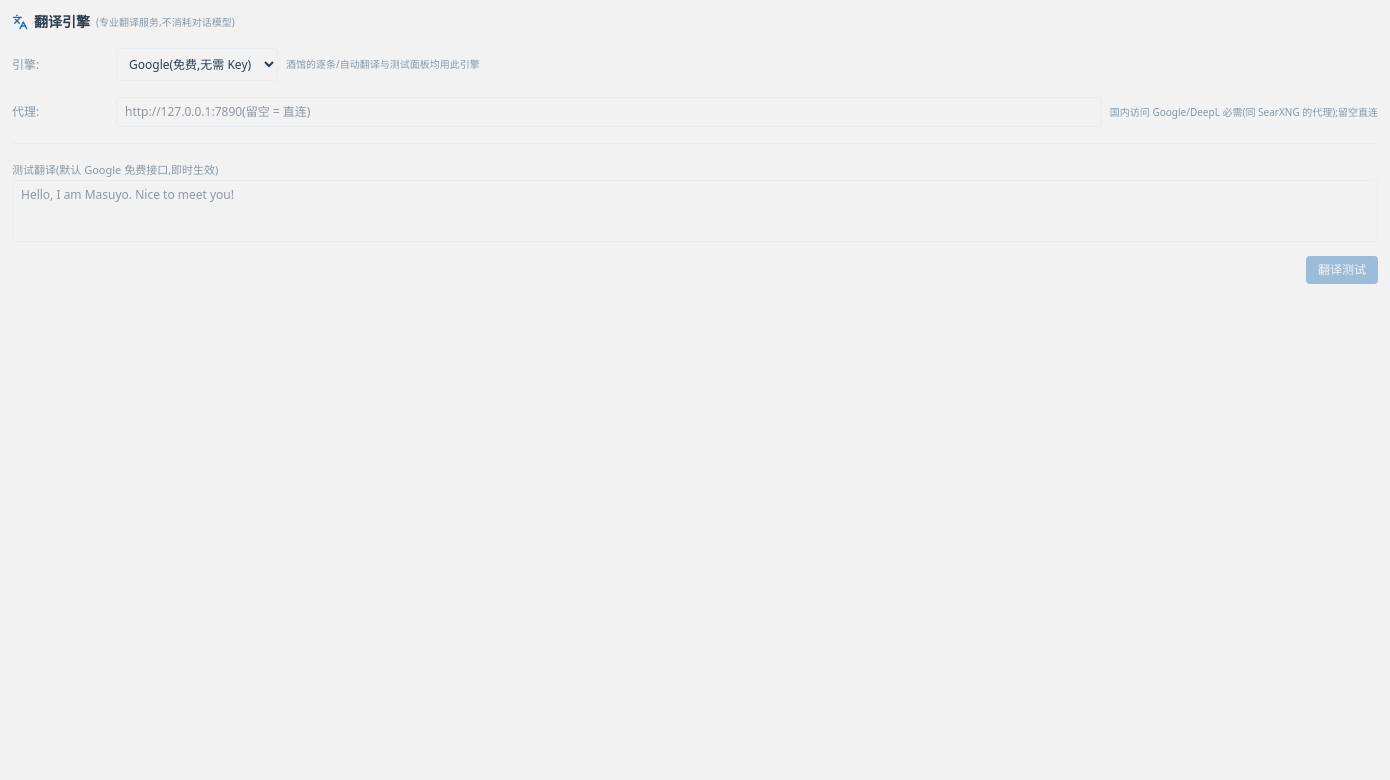
it: TranslateManager — 本地(OpenAI 兼容)引擎 › 切到 local 引擎后显示完整表单，并填入 Ollama 默认地址
Select "本地(OpenAI 兼容)" in the dropdown named "引擎". click: (197, 64)
box: [116, 48, 278, 81]
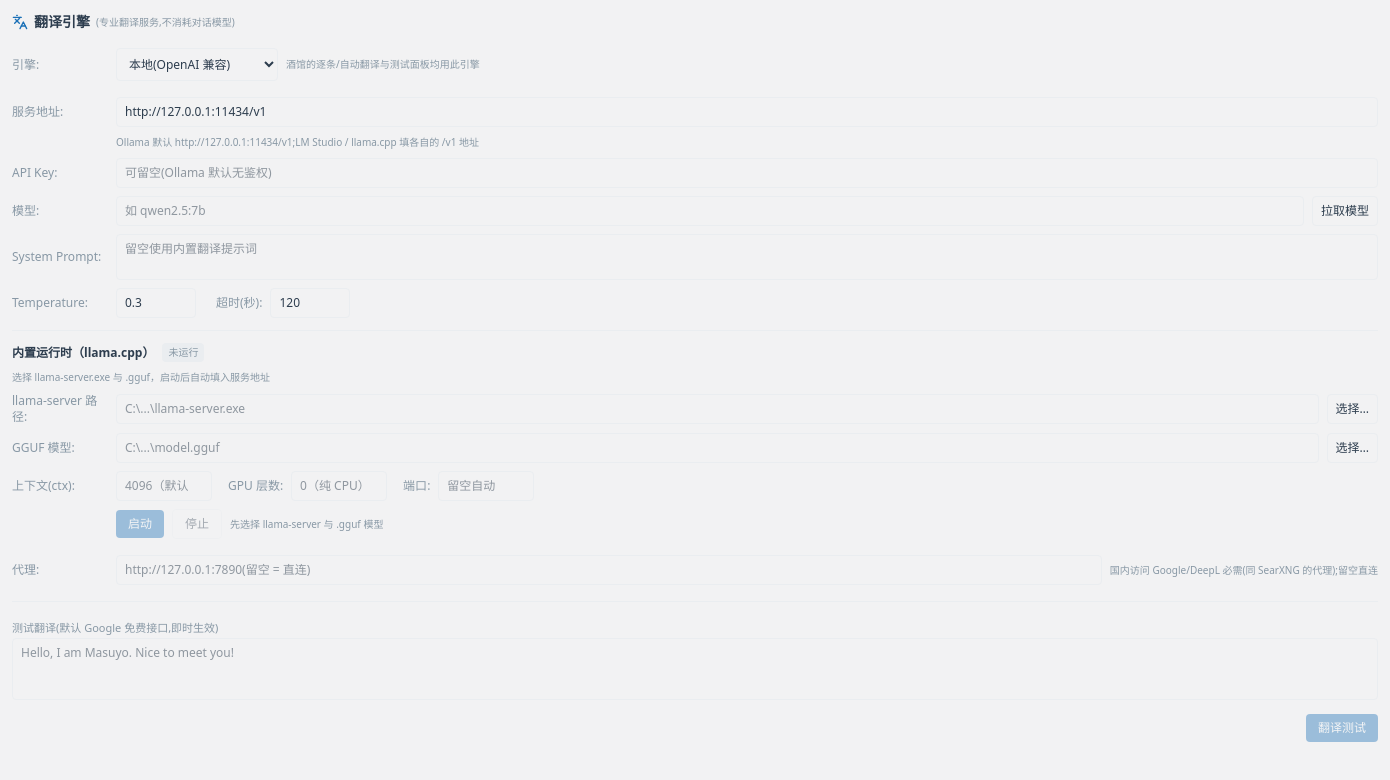
Now the field labelled "服务地址:" holds "http://127.0.0.1:11434/v1", box [116, 97, 1378, 127]
Now the password field labelled "API Key:" is shown, box [116, 158, 1378, 188]
Now the field labelled "模型:" is shown, box [116, 196, 1304, 226]
